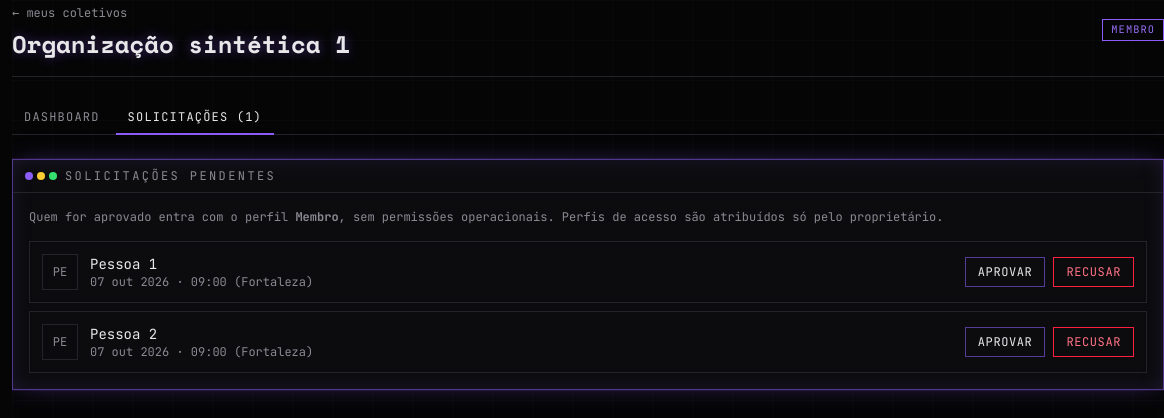
it: módulos de rota › aprovar um pedido: o sucesso só aparece depois da resposta da ação e a fila é recarregada
Click the button with aria-label "Aprovar pedido de Pessoa 1": point(1005, 272) [965,257,1045,287]
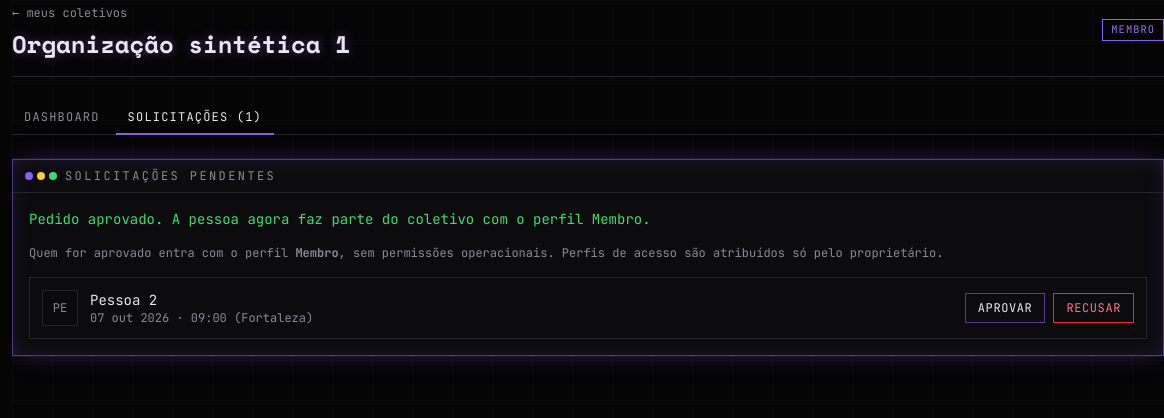
expect the text "Pessoa 2" is shown: met, box [90,291,157,309]
expect the text "Pedido aprovado. A pessoa agora faz parte do coletivo com o perfil Membro." is shown: met, box [29,210,651,228]
expect the text "Pessoa 1" is gone: met
